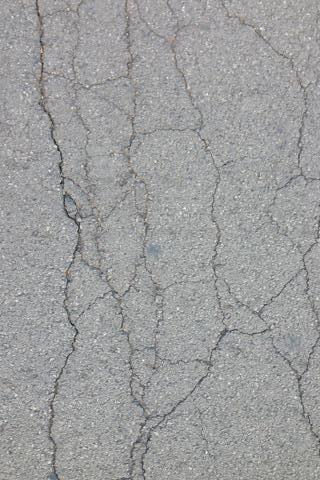A: (35, 1, 320, 480)
